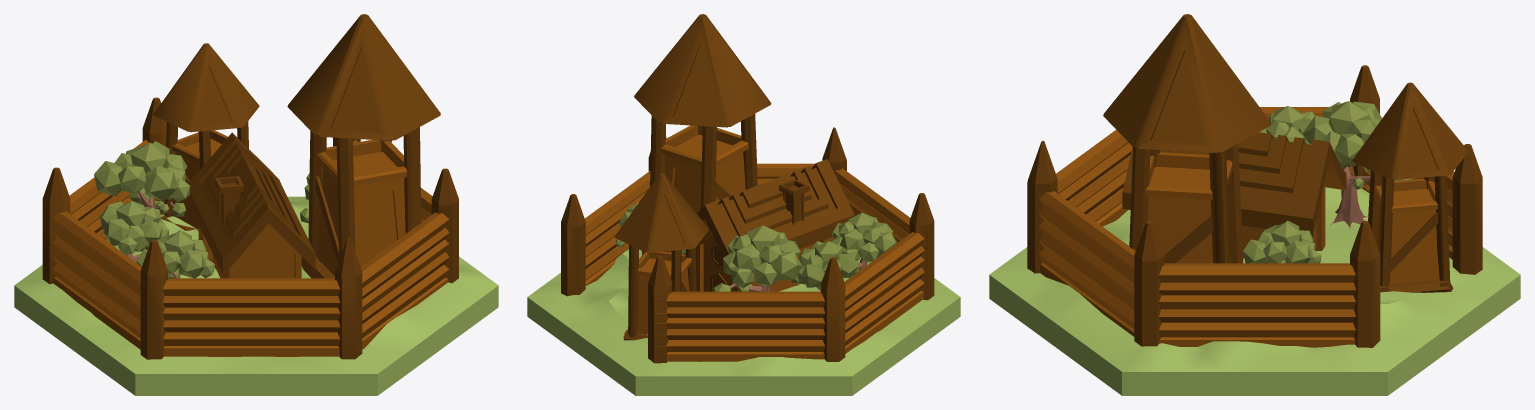
Rendered from castle0.glb.
3 renders of one model, left to right at view 1: azimuth 30°, elevation 25°; view 2: azimuth 150°, elevation 25°; view 3: azimuth 270°, elevation 25°, orthographic. The views are drawn at different scales.
Visible parts, largest first — view 1: Deciduousforest.003, land; view 2: Deciduousforest.003, land; view 3: Deciduousforest.003, land.
Part boxes in pixels (x1,y1,x2,y2): Deciduousforest.003: (42,14,458,359); land: (14,196,498,395); Deciduousforest.003: (561,14,934,363); land: (527,249,960,395); Deciduousforest.003: (1027,14,1482,347); land: (989,187,1520,395).
Bounding box in the file's own units: 1.73 × 1.35 × 2.
